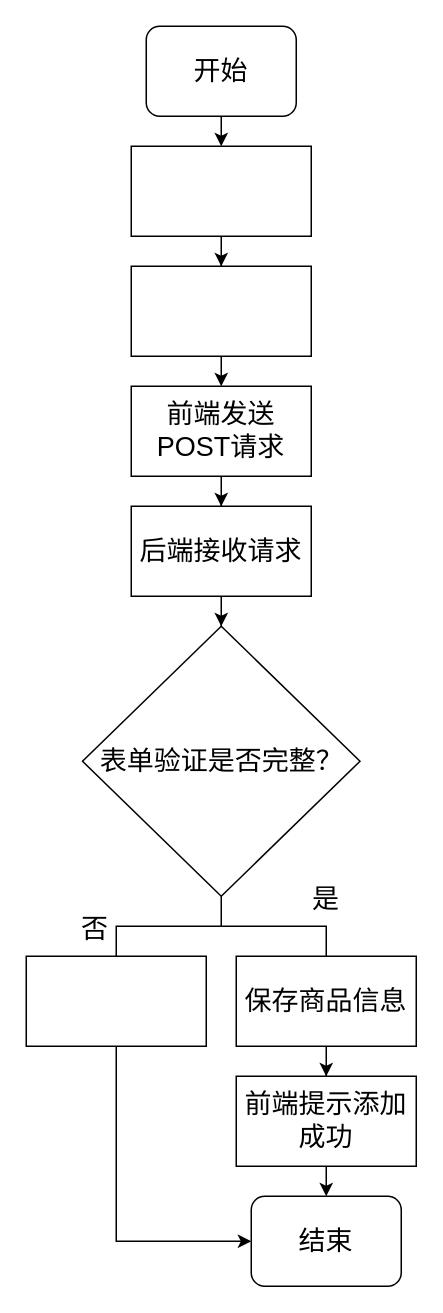
Image size: 443x1313. Some labels were removed from this diagram. The box of each missing label's shape, as (x1, y1, x2, y2) in pixels:
修改商品信息: (130, 265, 311, 356)
返回错误，商品信息必填: (25, 955, 206, 1046)
进入商品管理页面: (130, 145, 311, 236)
